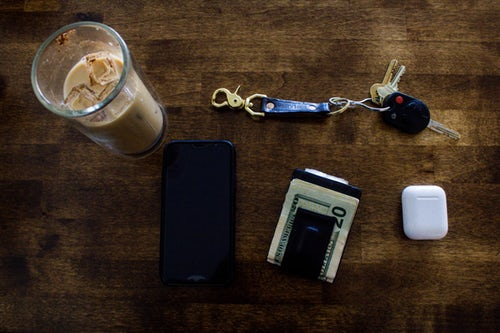phone: (160, 139, 237, 288)
